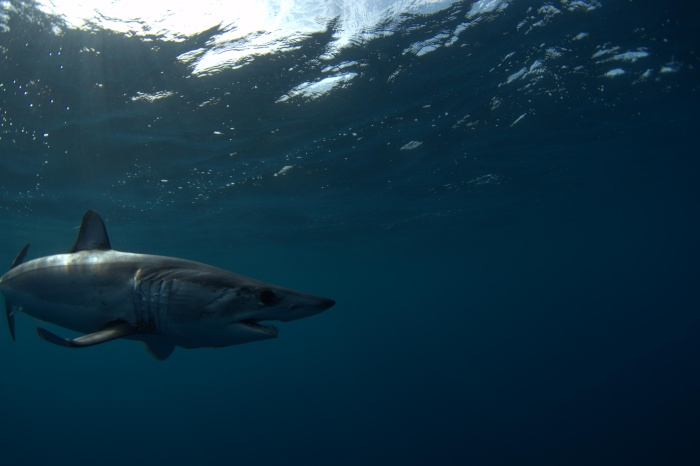Mako: (1, 204, 348, 373)
